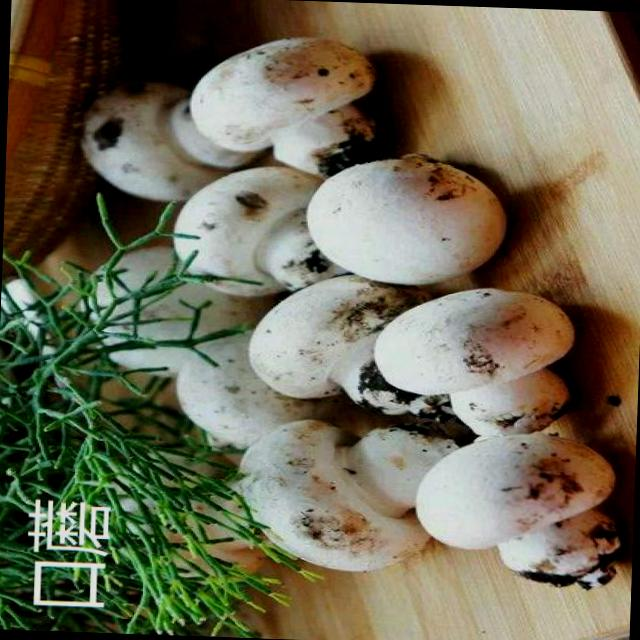Agaricus bisporus: (235, 416, 445, 572), (373, 286, 576, 442), (414, 432, 620, 580), (304, 152, 502, 288), (186, 30, 380, 167), (246, 272, 421, 409), (175, 165, 336, 298)
